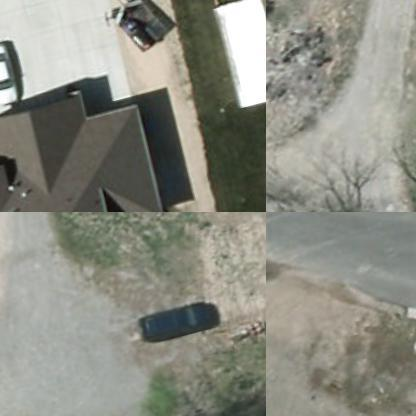car: (139, 298, 220, 347), (0, 38, 26, 108)
